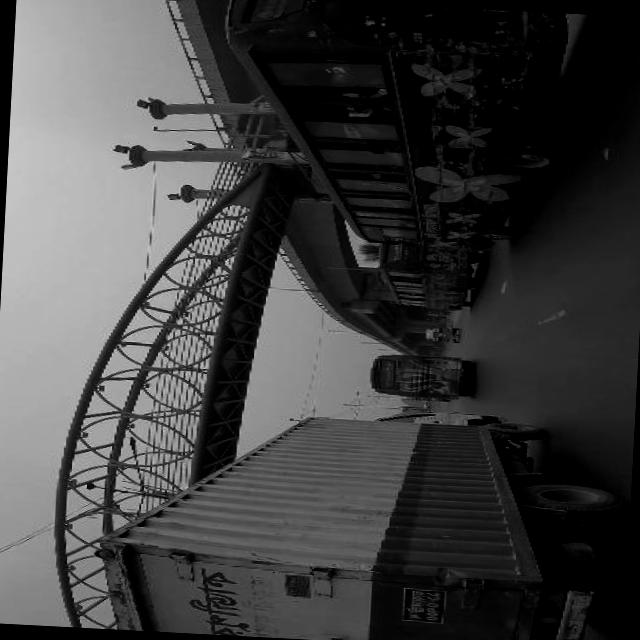bus: (207, 0, 571, 255), (371, 243, 478, 312), (366, 351, 473, 399)
motorcycle: (422, 324, 459, 342)
truck: (87, 395, 628, 640)
